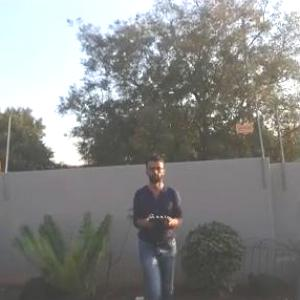follow: (128, 151, 189, 299)
